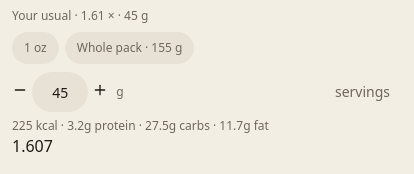
Scenario: ServingAmount › the portion this person usually logs (#159) › goes back to the label serving in one tap, said in servings again
The width and height of the screenshot is (414, 174).
Click the button "1 oz" at [35, 48], box [12,32,59,64]
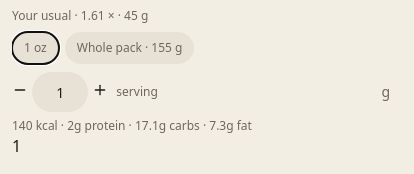
Expected: the text with test id "amount" reads "1", [12,135,21,157]
Expected: the field named "Amount in servings" holds "1", [32,72,88,112]
